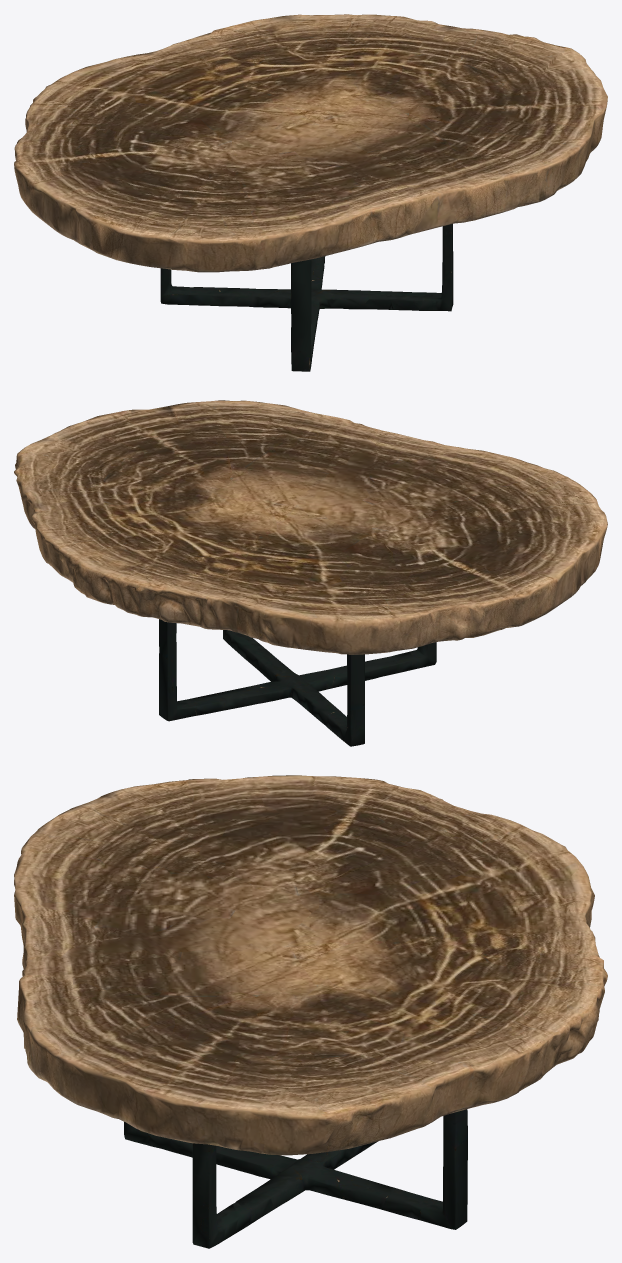
File: furn-03-round-coffee-table-meshy.glb
3 renders of one model, top to bottom at view 1: azimuth 30°, elevation 25°; view 2: azimuth 150°, elevation 25°; view 3: azimuth 270°, elevation 25°, orthographic. The views are drawn at different scales.
Parts seen in each view (by area): view 1: mesh_node; view 2: mesh_node; view 3: mesh_node.
Boxes of the visible parts, left/top/right/bottom form: mesh_node: left=14, top=14, right=607, bottom=371; mesh_node: left=14, top=400, right=607, bottom=746; mesh_node: left=14, top=775, right=607, bottom=1248.
Size of the model in its own units: 1.9 by 0.6121 by 1.39.
Materials: 1 (1 with a texture image).
